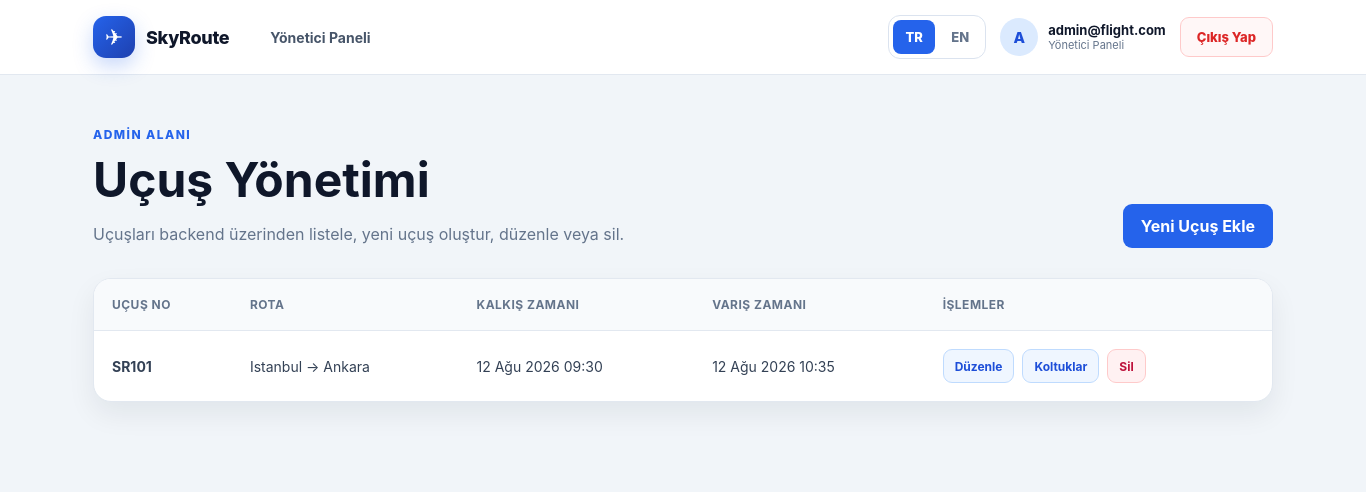
Test: dashboard management pages › does not delete a flight that has an occupied seat
The image size is (1366, 492).
Expected: the text "SR101" is shown, [112, 358, 152, 375]
Click the button "Sil" at (1126, 366), box [1107, 349, 1146, 383]
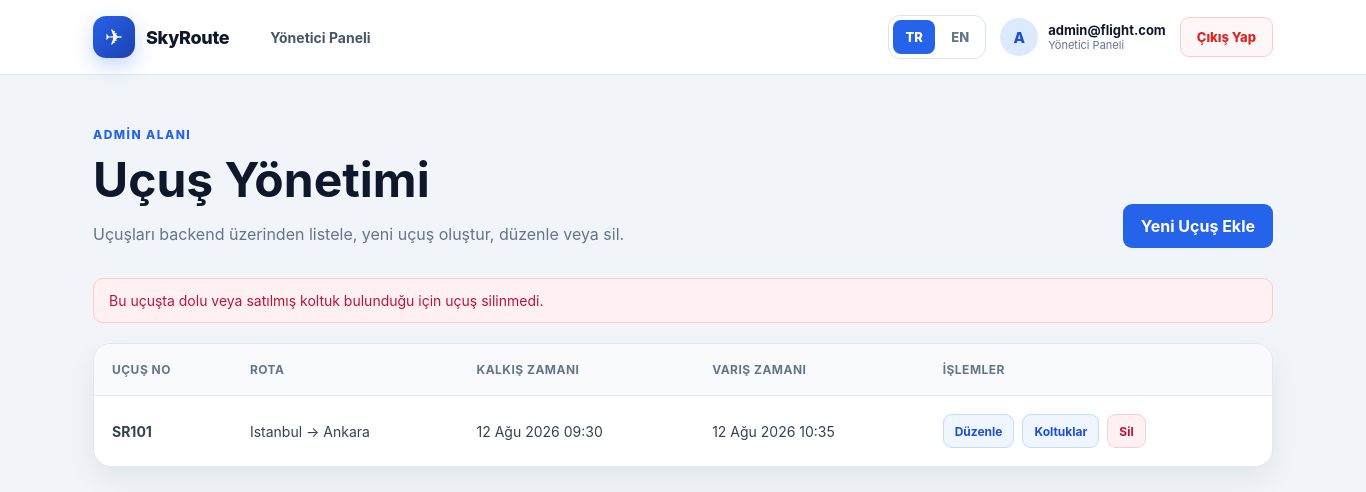
Result: the message reads "Bu uçuşta dolu veya satılmış koltuk bulunduğu için uçuş silinmedi." at [109, 292, 543, 309]
